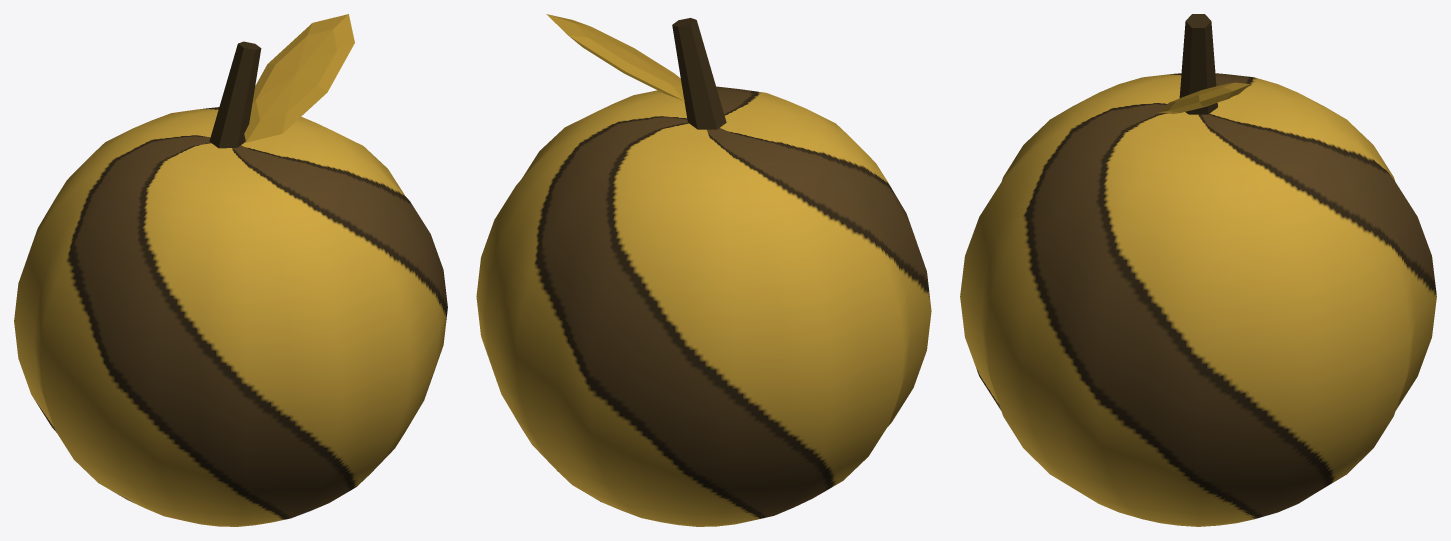
File: Fruit_Clock.fbx
3 renders of one model, left to right at view 1: azimuth 30°, elevation 25°; view 2: azimuth 150°, elevation 25°; view 3: azimuth 270°, elevation 25°, orthographic. The views are drawn at different scales.
Visible parts, largest first — view 1: Fruit_Clock; view 2: Fruit_Clock; view 3: Fruit_Clock.
Part boxes in pixels (<box>): Fruit_Clock: <box>14,14,447,526</box>; Fruit_Clock: <box>476,14,931,526</box>; Fruit_Clock: <box>960,14,1436,526</box>.
Bounding box in the file's own units: 1.66 × 1.9 × 1.66.
Materials: 1 (1 with a texture image).
